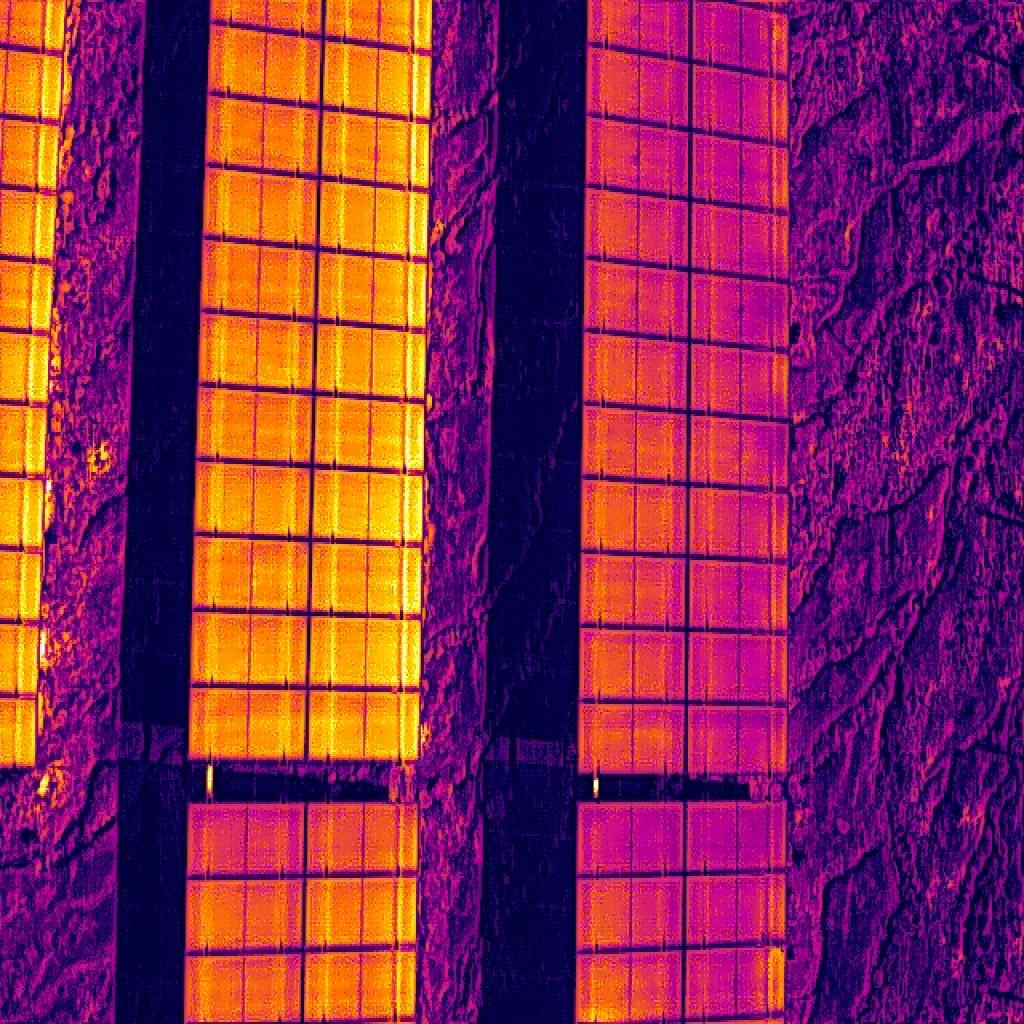panel: (198, 386, 315, 466), (199, 240, 317, 319), (192, 536, 309, 609), (585, 188, 689, 269), (321, 182, 430, 259), (185, 881, 303, 952), (578, 878, 684, 954), (305, 804, 420, 873), (693, 132, 792, 212)
